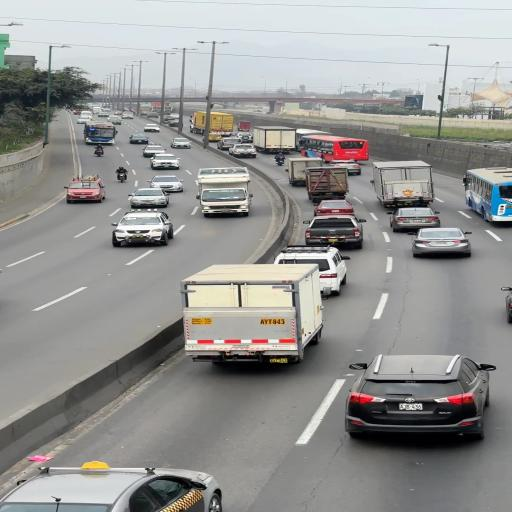auto: (343, 354, 491, 439), (2, 464, 221, 512), (274, 246, 348, 282), (110, 209, 175, 246), (408, 229, 472, 257), (304, 221, 361, 246), (389, 206, 442, 232), (66, 177, 104, 204), (127, 186, 171, 207), (313, 198, 356, 216), (147, 174, 184, 192), (149, 154, 181, 170), (76, 174, 106, 190), (142, 144, 167, 158), (231, 131, 253, 143), (170, 138, 192, 148), (128, 134, 149, 143), (143, 124, 159, 132), (107, 115, 121, 122), (169, 117, 180, 125), (72, 110, 82, 115)
bus: (462, 166, 512, 223), (298, 134, 367, 164), (294, 128, 334, 151), (84, 120, 118, 146)
camion: (179, 269, 321, 360), (370, 161, 435, 209), (195, 166, 255, 218), (302, 164, 350, 201), (252, 126, 298, 155), (191, 110, 233, 140), (284, 156, 323, 187)
moto: (115, 164, 129, 178), (93, 144, 105, 158)
